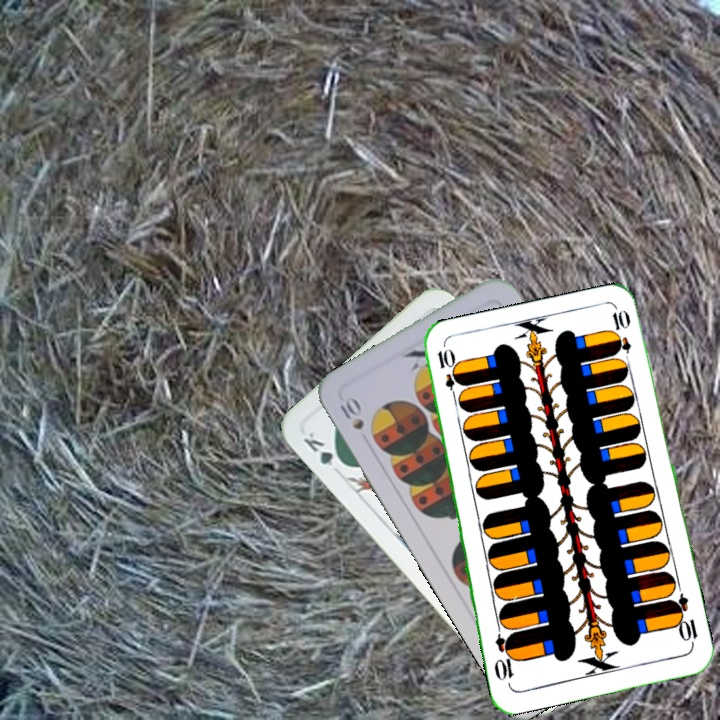E10: (667, 591, 701, 649), (433, 345, 461, 404)
GK: (299, 428, 349, 472)
S10: (335, 392, 367, 433)
